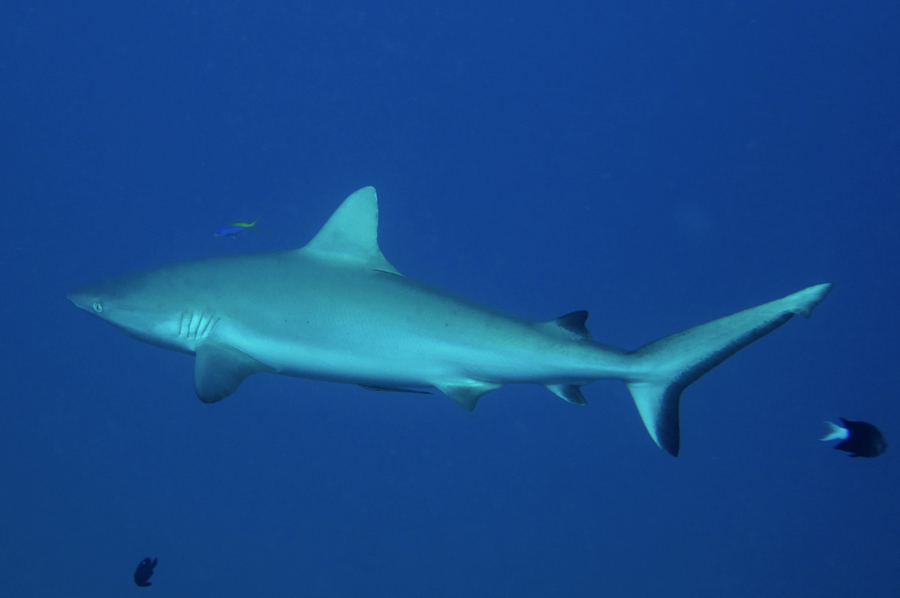Carcharhinus_amblyrhynchos: (54, 182, 836, 456)
